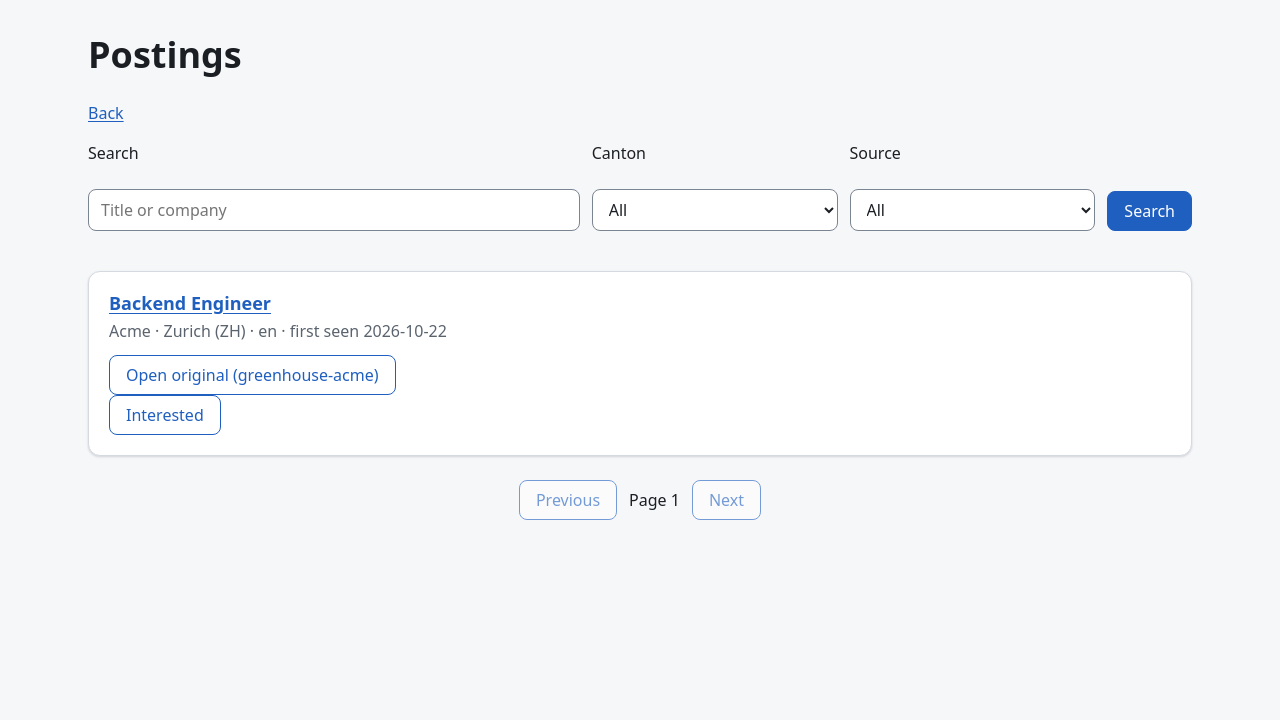
Test: the Interested action › shows a message and keeps the posting as it was when tracking fails
Click the button "Interested" at x=165, y=414, box [109,394,221,434]
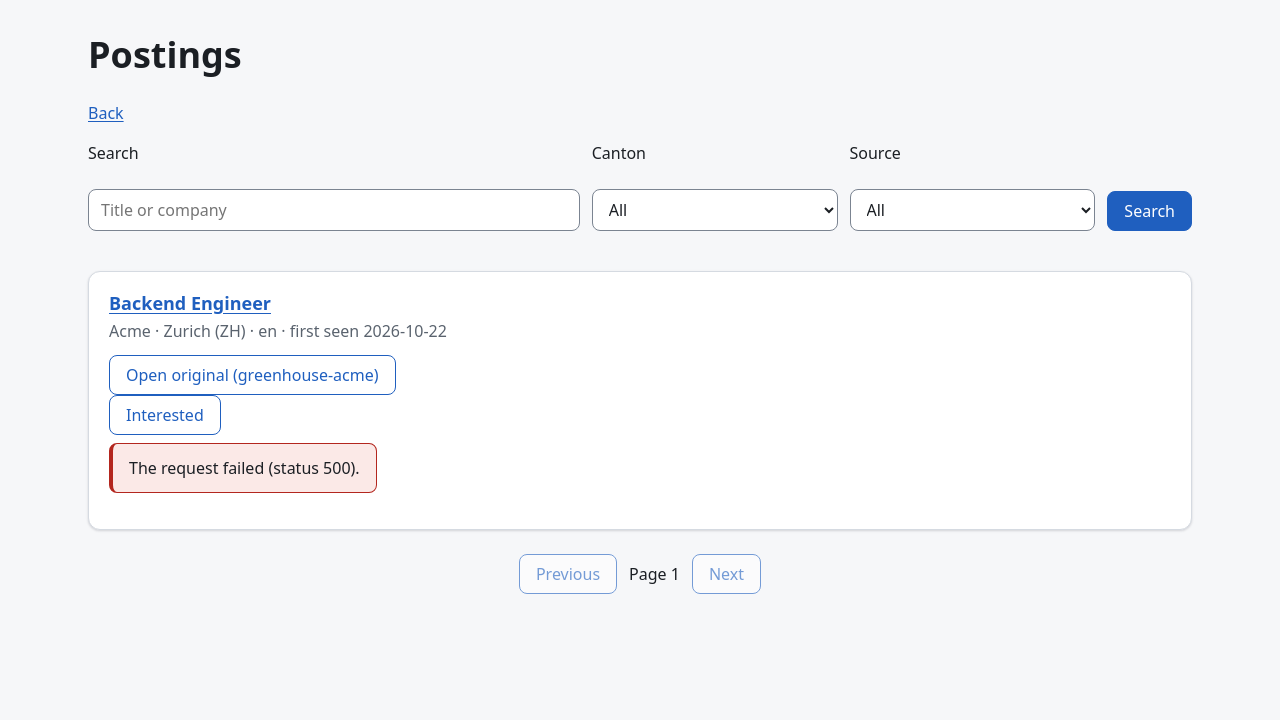
Now the message reads "The request failed (status 500).", box [129,456,360,478]
